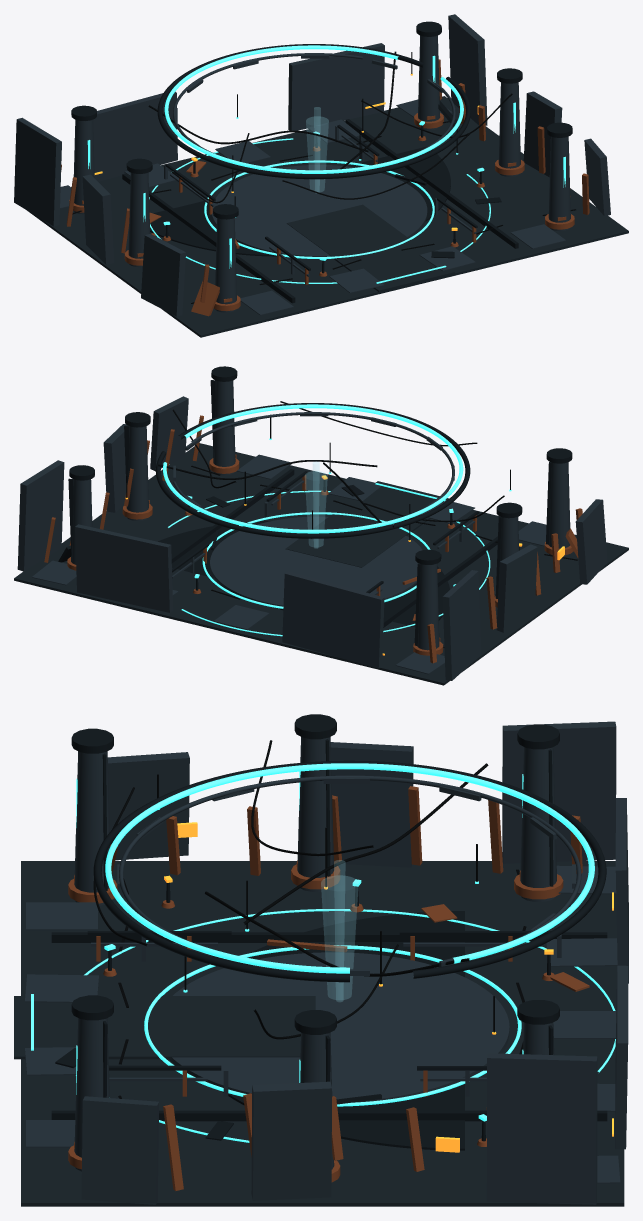
The model's file is deck-hall.glb.
3 views of the same model, one above another, from view 1: azimuth 30°, elevation 25°; view 2: azimuth 150°, elevation 25°; view 3: azimuth 270°, elevation 25° (orthographic). The views are drawn at different scales.
Visible parts, largest first — view 1: MainWetMetalFloorSlab, CentralCircularDeckPlatform, MainDarkRibbedColumnCore (×6), OpenForwardRouteMetalRunway, RearRightBackWallFragment, RearLeftBackWallFragment, LeftRearWallShardA, RearHalfRoundServiceDeck, DarkOuterCeilingRingFrame, LeftForwardWallShardC, RightRearWallShardA, LargeSuspendedColdBlueRingLight (+17 smaller); view 2: MainWetMetalFloorSlab, CentralCircularDeckPlatform, MainDarkRibbedColumnCore (×6), RearLeftBackWallFragment, RearRightBackWallFragment, OpenForwardRouteMetalRunway, RightRearWallShardA, LeftRearWallShardA, DarkOuterCeilingRingFrame, LargeSuspendedColdBlueRingLight, LeftMidWallShardB, RearHalfRoundServiceDeck (+17 smaller); view 3: MainWetMetalFloorSlab, CentralCircularDeckPlatform, RightRearWallShardA, MainDarkRibbedColumnCore (×6), OpenForwardRouteMetalRunway, LeftRearWallShardA, RightMidWallShardB, RearHalfRoundServiceDeck, RightForwardWallShardC, LeftMidWallShardB, DarkOuterCeilingRingFrame, LargeSuspendedColdBlueRingLight (+27 smaller).
Part boxes in pixels (left/top/right/bottom): MainWetMetalFloorSlab: left=28, top=96, right=628, bottom=337; CentralCircularDeckPlatform: left=211, top=165, right=427, bottom=256; MainDarkRibbedColumnCore (×6): left=73, top=35, right=570, bottom=312; OpenForwardRouteMetalRunway: left=286, top=204, right=454, bottom=291; RearRightBackWallFragment: left=288, top=43, right=384, bottom=130; RearLeftBackWallFragment: left=93, top=91, right=177, bottom=181; LeftRearWallShardA: left=14, top=117, right=61, bottom=226; RearHalfRoundServiceDeck: left=150, top=146, right=450, bottom=256; DarkOuterCeilingRingFrame: left=157, top=44, right=470, bottom=179; LeftForwardWallShardC: left=141, top=234, right=185, bottom=316; RightRearWallShardA: left=448, top=14, right=487, bottom=125; LargeSuspendedColdBlueRingLight: left=164, top=45, right=463, bottom=173; MainWetMetalFloorSlab: left=14, top=443, right=628, bottom=685; CentralCircularDeckPlatform: left=210, top=516, right=422, bottom=606; MainDarkRibbedColumnCore (×6): left=71, top=380, right=570, bottom=650; RearLeftBackWallFragment: left=282, top=571, right=384, bottom=668; RearRightBackWallFragment: left=75, top=524, right=173, bottom=612; OpenForwardRouteMetalRunway: left=285, top=481, right=453, bottom=567; RightRearWallShardA: left=17, top=460, right=64, bottom=571; LeftRearWallShardA: left=442, top=570, right=481, bottom=680; DarkOuterCeilingRingFrame: left=155, top=403, right=470, bottom=538; LargeSuspendedColdBlueRingLight: left=163, top=404, right=463, bottom=533; LeftMidWallShardB: left=496, top=544, right=537, bottom=632; RearHalfRoundServiceDeck: left=158, top=521, right=449, bottom=626; MainWetMetalFloorSlab: left=21, top=861, right=624, bottom=1206; CentralCircularDeckPlatform: left=169, top=952, right=509, bottom=1102; RightRearWallShardA: left=486, top=1053, right=597, bottom=1204; MainDarkRibbedColumnCore (×6): left=74, top=737, right=556, bottom=1183; OpenForwardRouteMetalRunway: left=14, top=996, right=315, bottom=1059; LeftRearWallShardA: left=502, top=721, right=616, bottom=863; RightMidWallShardB: left=251, top=1081, right=331, bottom=1200; RearHalfRoundServiceDeck: left=221, top=911, right=464, bottom=1150; RightForwardWallShardC: left=81, top=1096, right=158, bottom=1204; LeftMidWallShardB: left=330, top=742, right=413, bottom=867; DarkOuterCeilingRingFrame: left=93, top=760, right=606, bottom=982; LargeSuspendedColdBlueRingLight: left=105, top=763, right=594, bottom=973.
Bounding box in the file's own units: 24.51 × 5.65 × 17.93.
